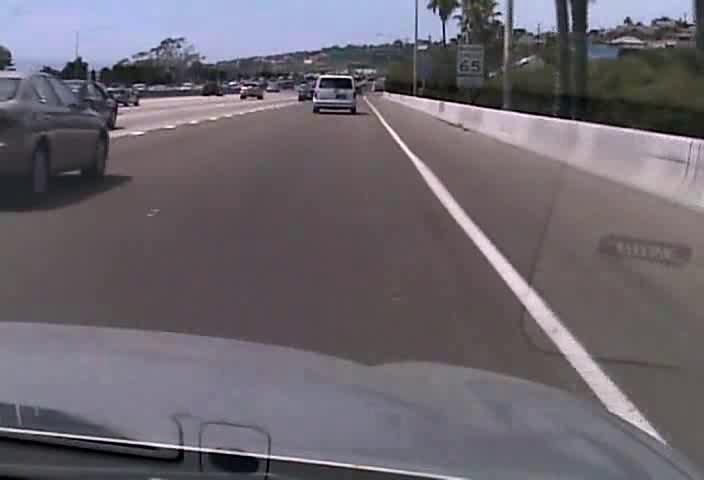speedLimit65: (455, 43, 485, 76)
